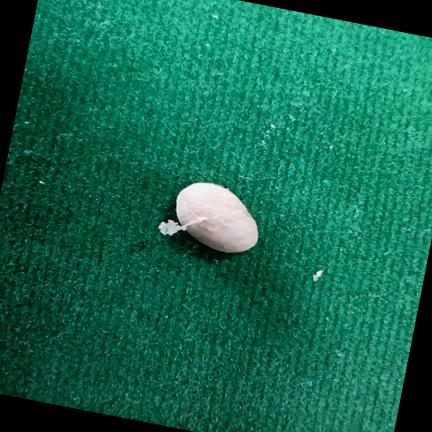shell: (158, 183, 258, 253)
